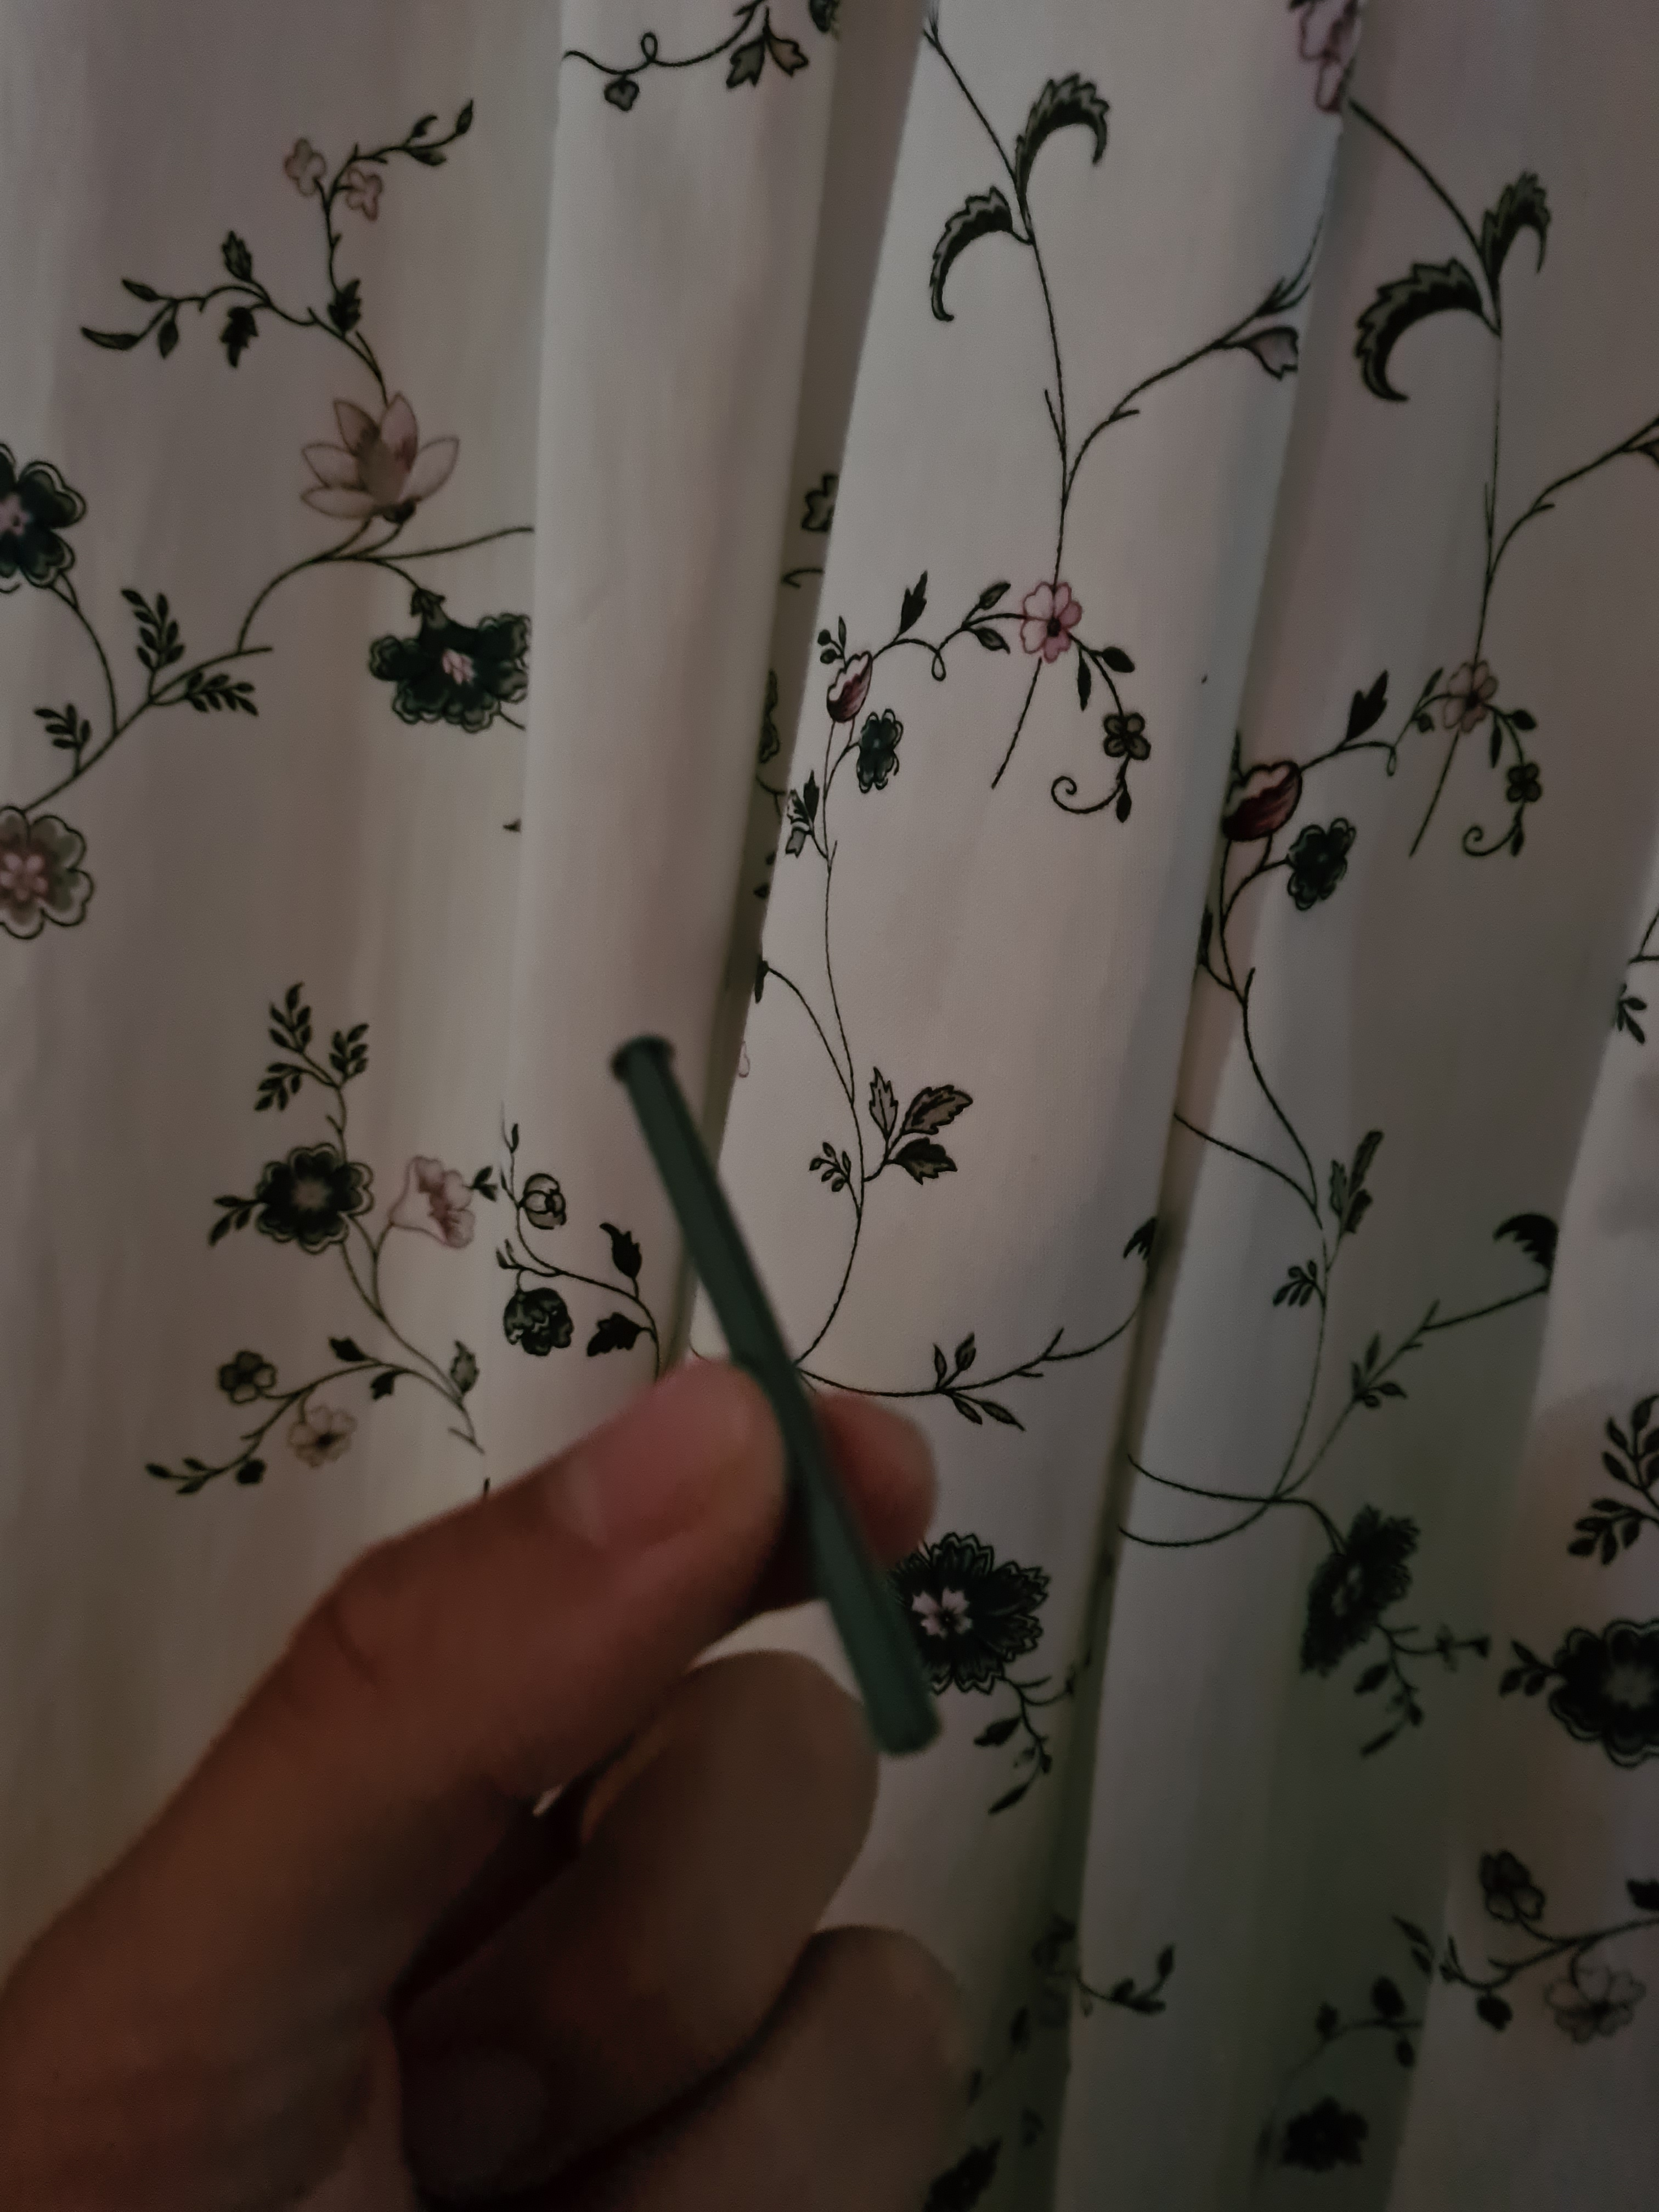Grau_lang: (587, 989, 976, 1787)
